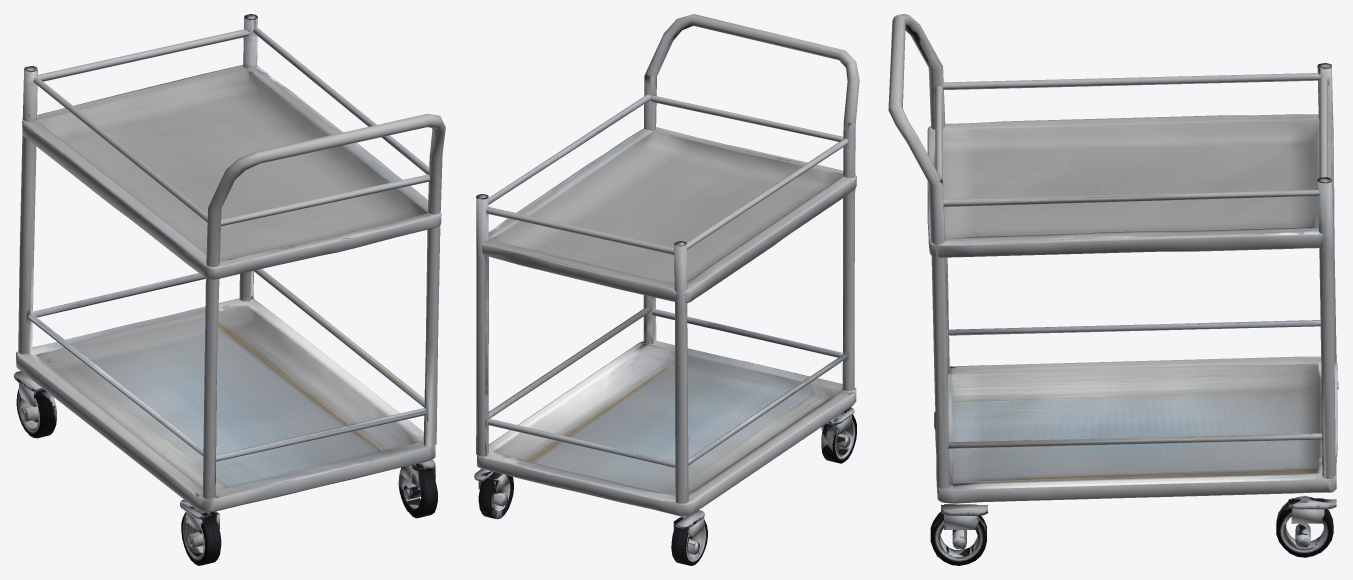
File: cart.fbx
The picture shows the model from 3 angles, left to right: view 1: azimuth 30°, elevation 25°; view 2: azimuth 150°, elevation 25°; view 3: azimuth 270°, elevation 25°; orthographic projection. The views are drawn at different scales.
Visible parts, largest first — view 1: tripo_node_539b3754; view 2: tripo_node_539b3754; view 3: tripo_node_539b3754.
Boxes of the visible parts, box(x1,y1,x2,y2) form: tripo_node_539b3754: box(14, 14, 445, 565); tripo_node_539b3754: box(474, 14, 859, 565); tripo_node_539b3754: box(888, 14, 1338, 565).
Size of the model in its own units: 52.82 by 89.59 by 81.13.
Materials: 1 (1 with a texture image).
